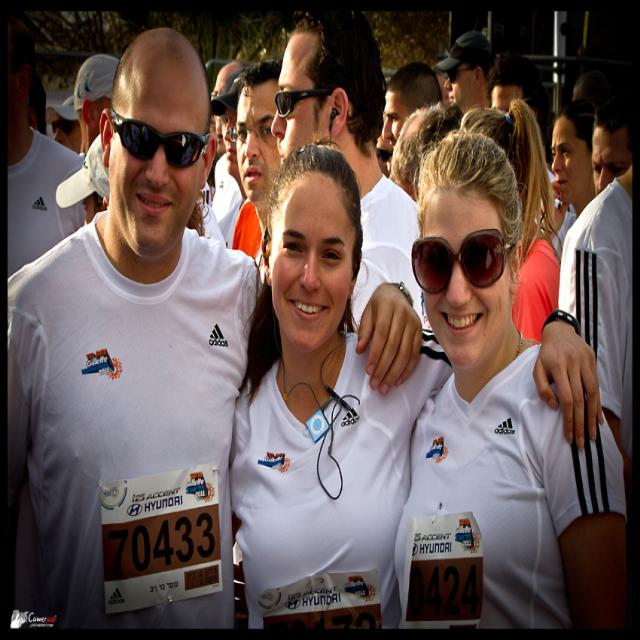Bib: (104, 509, 218, 581), (409, 562, 479, 622)
